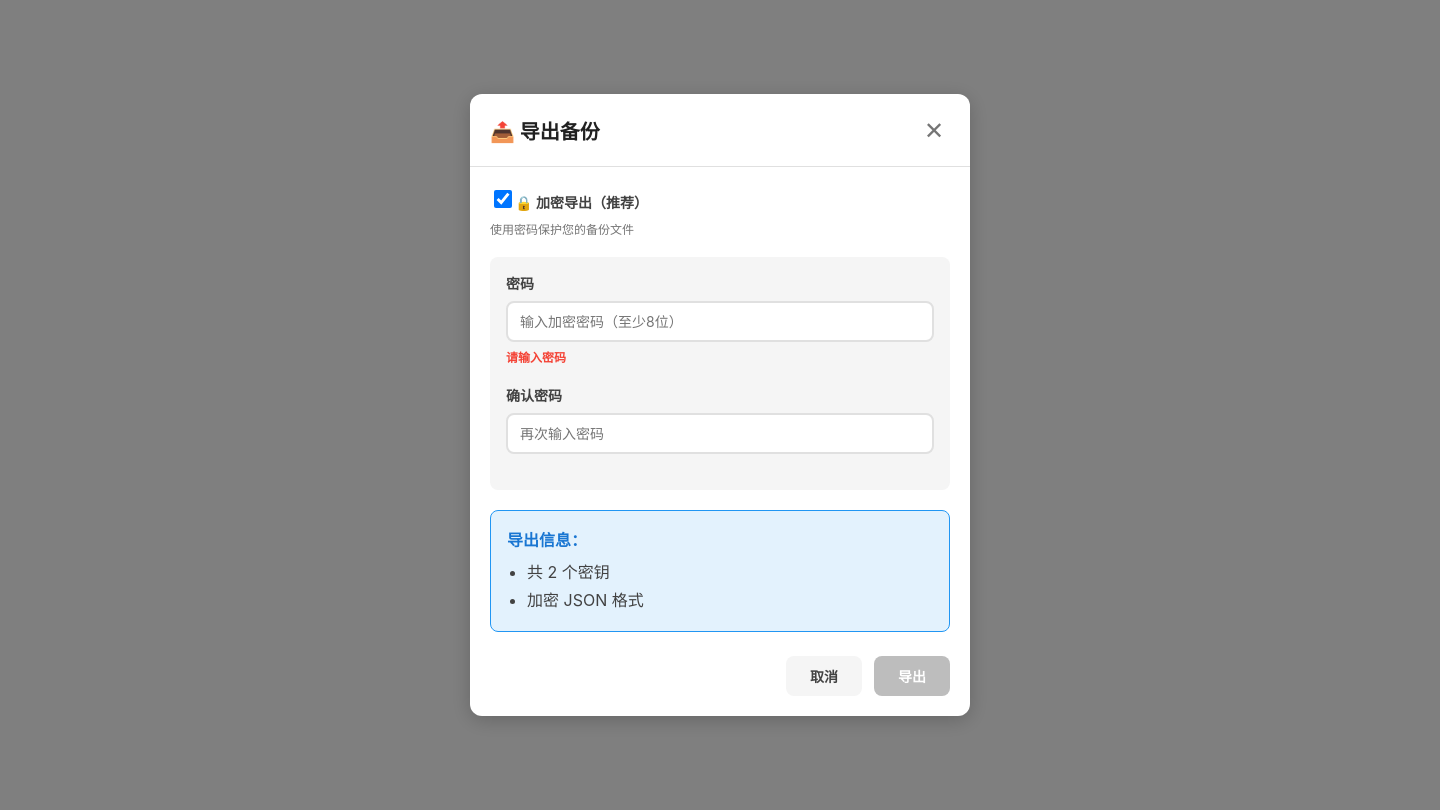
it: ExportDialog › should hide password fields when encryption disabled
This screenshot has width=1440, height=810.
Click the checkbox labelled "🔒 加密导出（推荐）". click: (503, 199)
box: [494, 190, 512, 208]
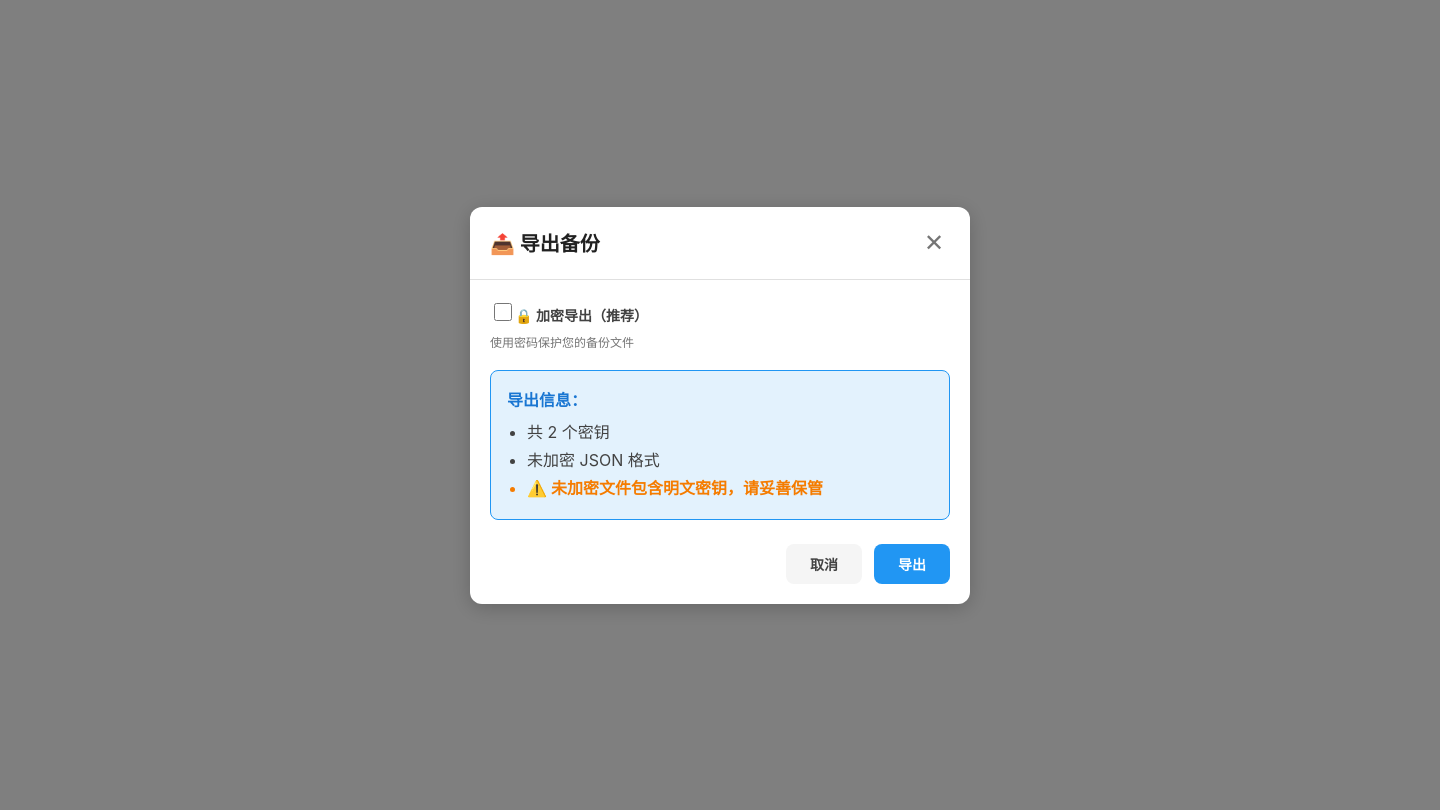
Result: the text "未加密 JSON 格式" is shown at [527, 450, 660, 470]
